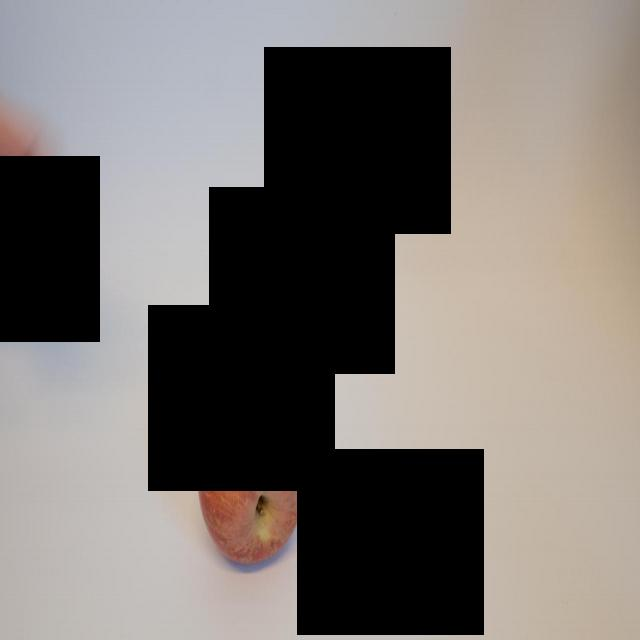apple: (195, 390, 311, 575)
